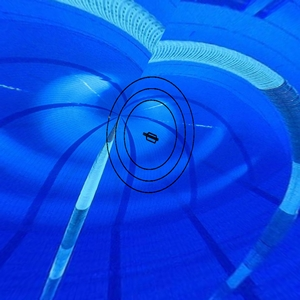circle: (105, 73, 198, 200)
submarine: (136, 124, 167, 154)
